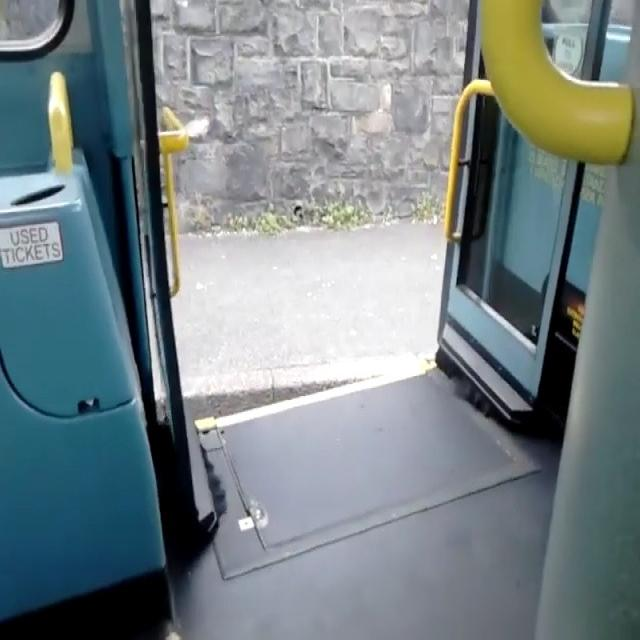bus-door: (110, 0, 572, 450)
